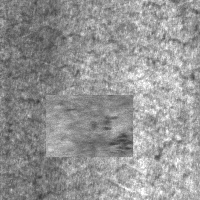crazing: (1, 24, 121, 74), (130, 1, 200, 83)
rolled-in_scale: (46, 95, 133, 157)
